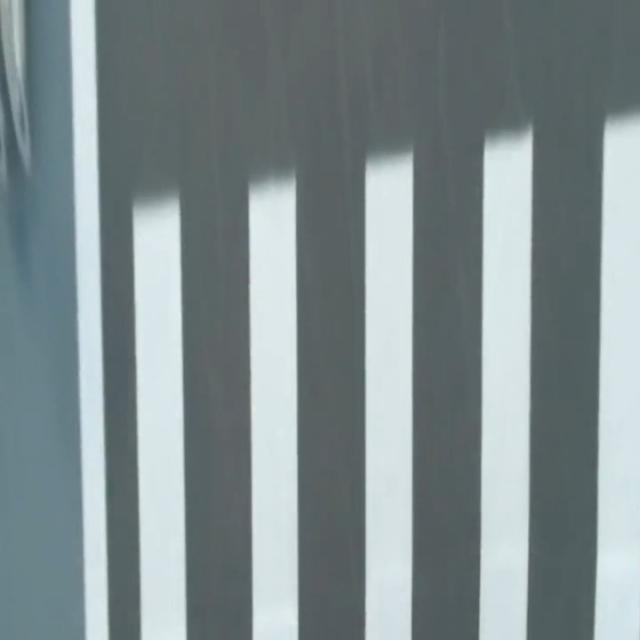left: (68, 0, 108, 639)
